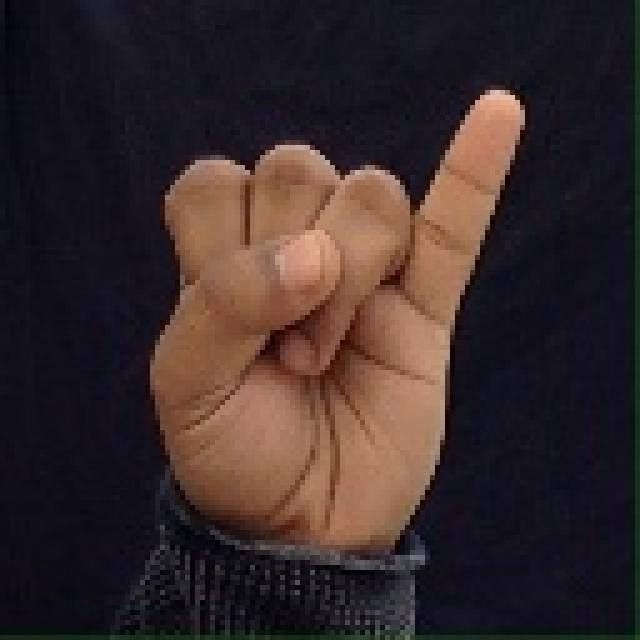Numeric-6: (133, 73, 536, 567)
